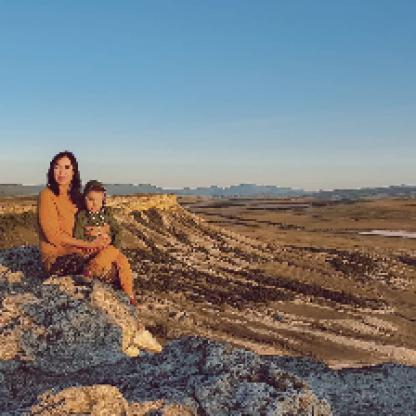child: (74, 180, 134, 295)
